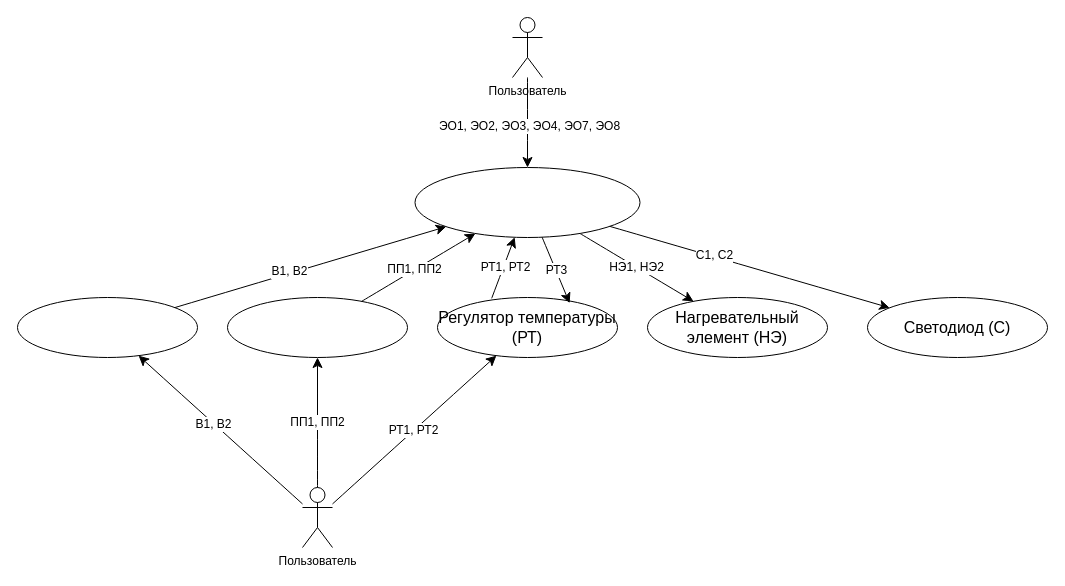
Some shapes in this 1065 by 586 pixel diagram are drawn without their labels. Each missing label, with the centre of its shape:
Вилка (В): the point at 107,327
Переключатель питания (ПП): the point at 317,327
Электрообогреватель (ЭО): the point at 527,202
